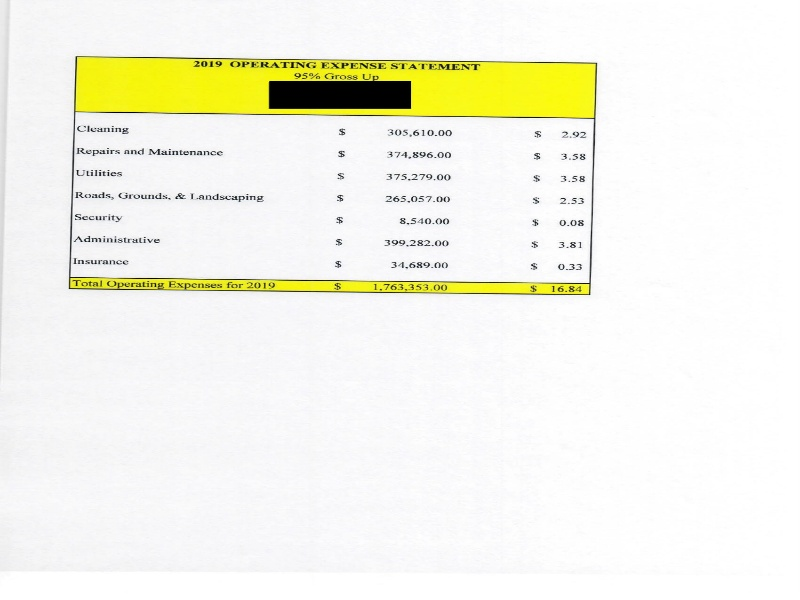table: (66, 50, 594, 301)
